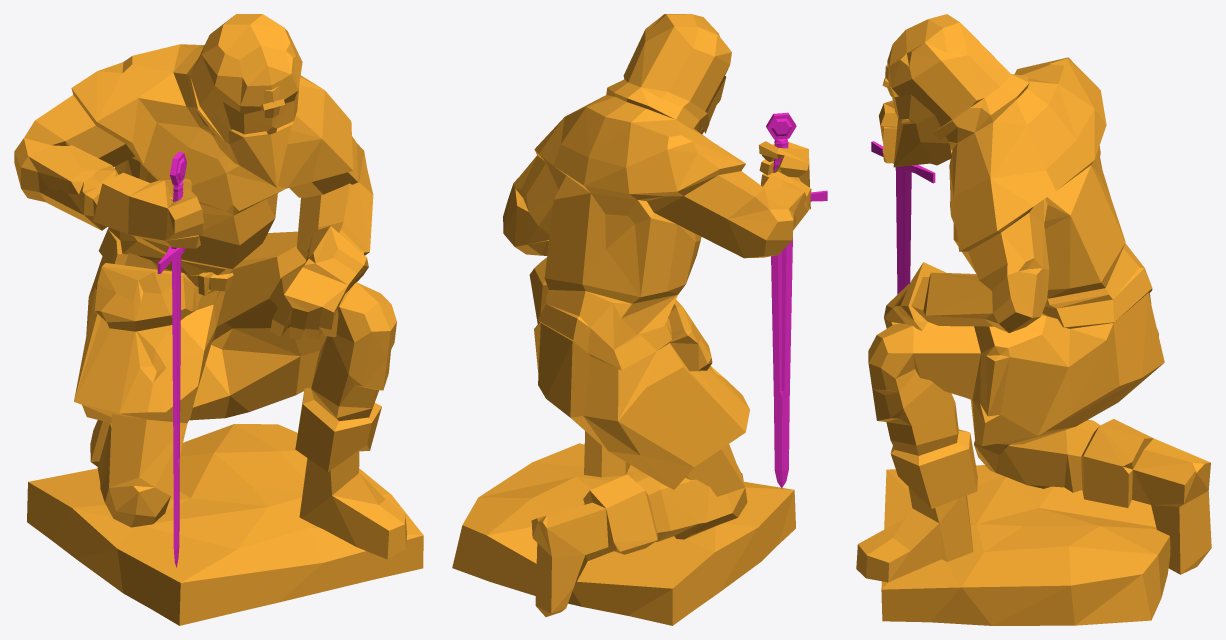
Rendered from SM_Statue_Knight_Fallen_Fantasy.fbx.
The picture shows the model from 3 angles, left to right: view 1: azimuth 30°, elevation 25°; view 2: azimuth 150°, elevation 25°; view 3: azimuth 270°, elevation 25°; orthographic projection. The views are drawn at different scales.
Parts seen in each view (by area): view 1: SM_Statue_Knight_Fallen_Fantasy; view 2: SM_Statue_Knight_Fallen_Fantasy; view 3: SM_Statue_Knight_Fallen_Fantasy.
Part boxes in pixels (x1=…): SM_Statue_Knight_Fallen_Fantasy: x1=14, y1=14, x2=423, y2=625; SM_Statue_Knight_Fallen_Fantasy: x1=452, y1=14, x2=827, y2=625; SM_Statue_Knight_Fallen_Fantasy: x1=856, y1=14, x2=1211, y2=625.
Bounding box in the file's own units: 0.8359 × 1.36 × 0.8132.
